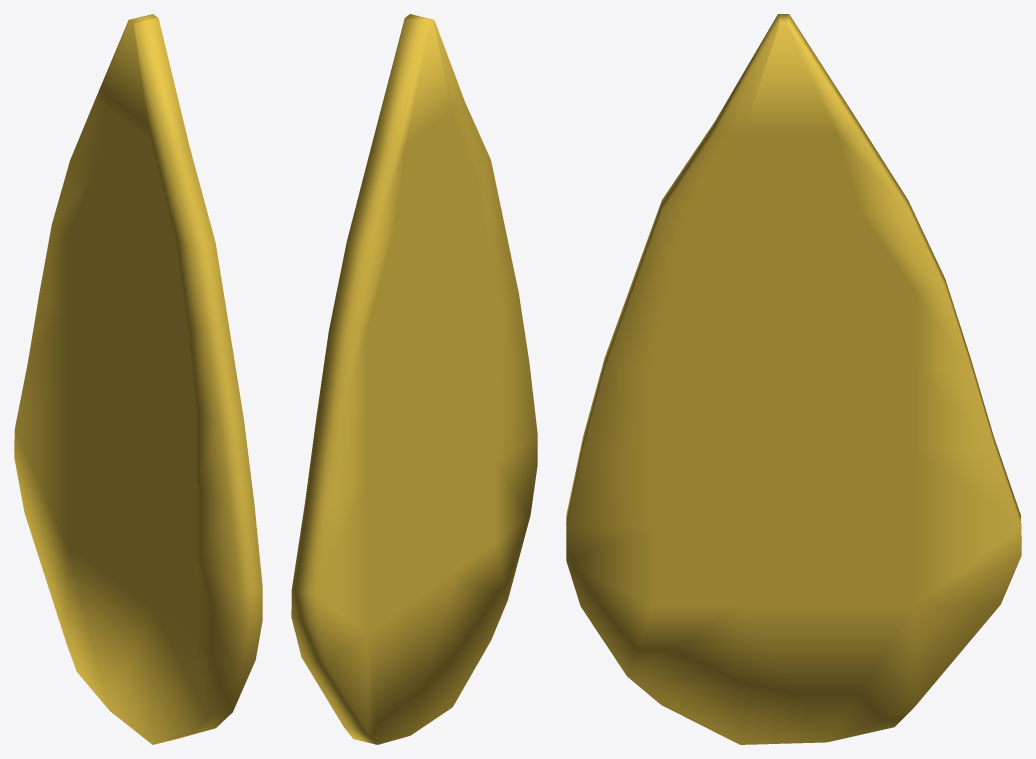
Rendered from secondEs3.glb.
3 renders of one model, left to right at view 1: azimuth 30°, elevation 25°; view 2: azimuth 150°, elevation 25°; view 3: azimuth 270°, elevation 25°, orthographic. The views are drawn at different scales.
Visible parts, largest first — view 1: GOTA; view 2: GOTA; view 3: GOTA.
Part boxes in pixels (<box>): GOTA: <box>14,14,262,744</box>; GOTA: <box>291,14,537,744</box>; GOTA: <box>566,14,1021,744</box>.
Size of the model in its own units: 0.00257 by 0.071 by 0.0408.
